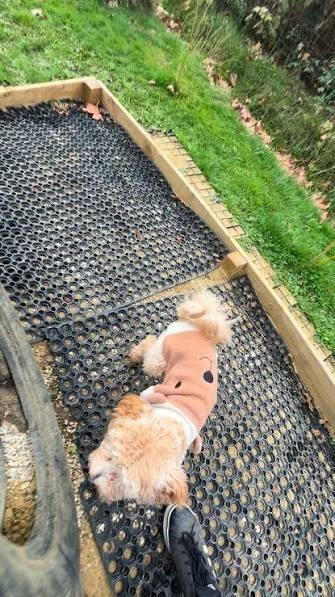adult_dog: (88, 290, 236, 510)
